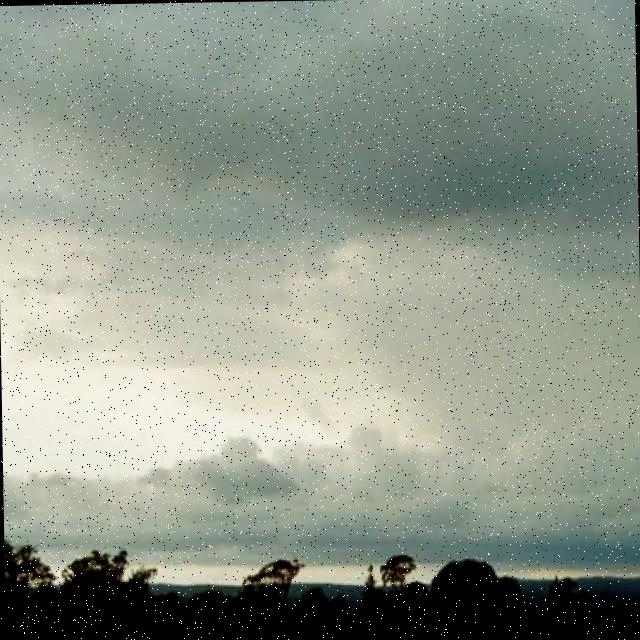Sc: (1, 43, 640, 527)
